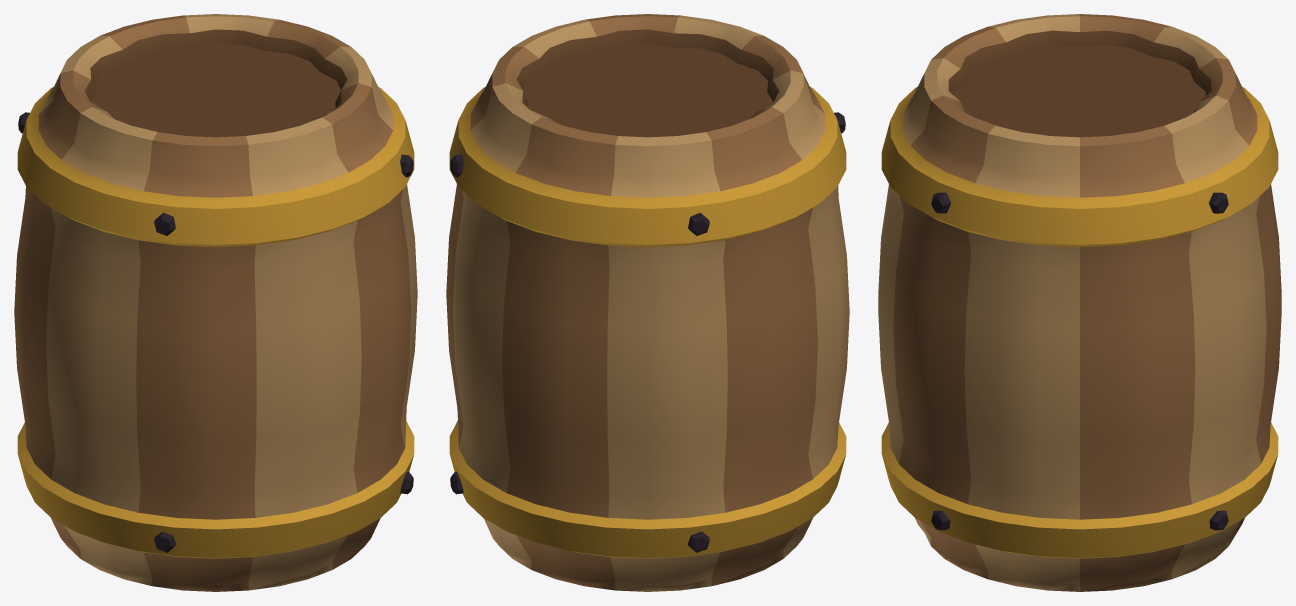
File: Barrel_25.glb
3 views of the same model, side by side, from view 1: azimuth 30°, elevation 25°; view 2: azimuth 150°, elevation 25°; view 3: azimuth 270°, elevation 25° (orthographic).
Visible parts, largest first — view 1: Barrel_25; view 2: Barrel_25; view 3: Barrel_25.
Part boxes in pixels (bbox=[...]): Barrel_25: bbox=[14, 14, 417, 591]; Barrel_25: bbox=[446, 14, 849, 591]; Barrel_25: bbox=[878, 14, 1281, 591].
Bounding box in the file's own units: 2.12 × 2.66 × 2.15.
